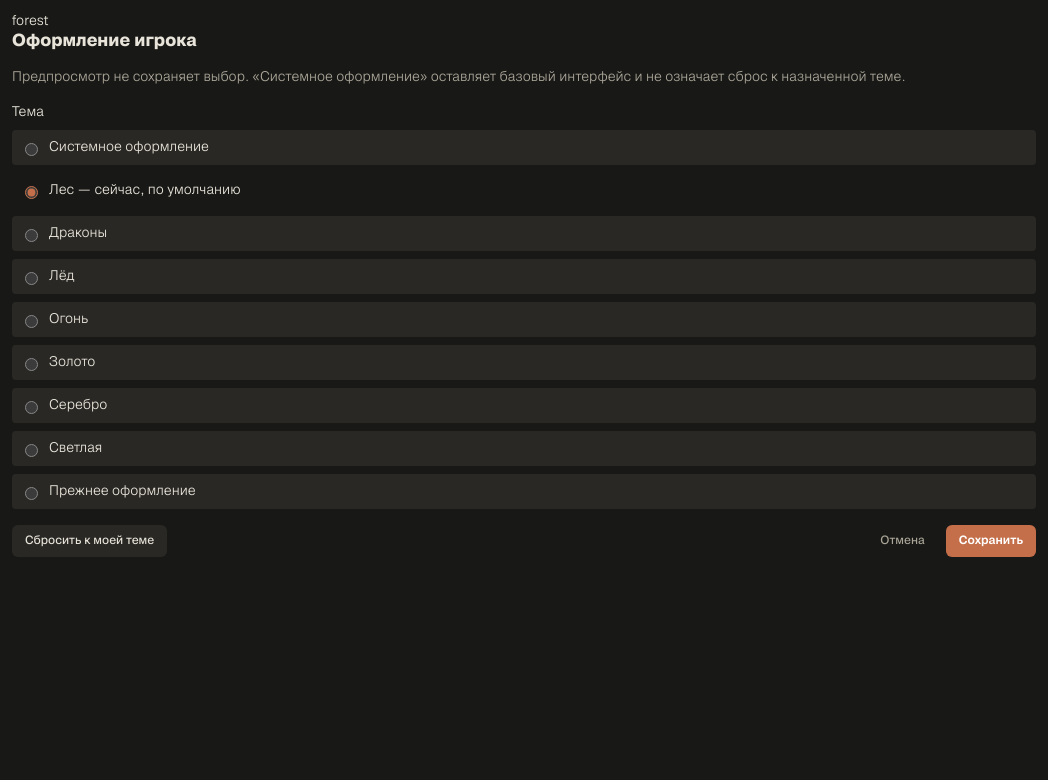
it: returns the draft to the controlled appearance after a successful reset with an unchanged null override
Click the radio button labelled "Драконы".
click(32, 235)  # box [25,228,38,242]
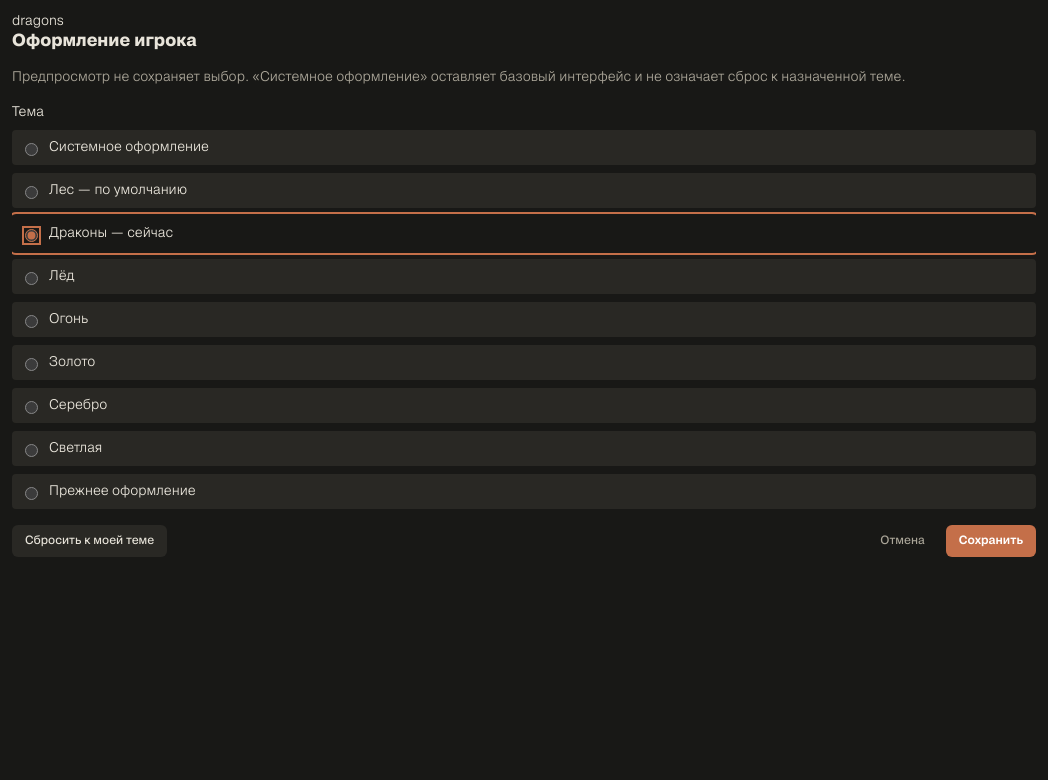
Expected: the radio button labelled "Драконы — сейчас" is checked, [25,228,38,242]
Expected: the text named "Применённая тема" reads "dragons", [12,15,64,28]
Click the button "Сбросить к моей теме".
click(90, 541)  # box [12,525,167,557]
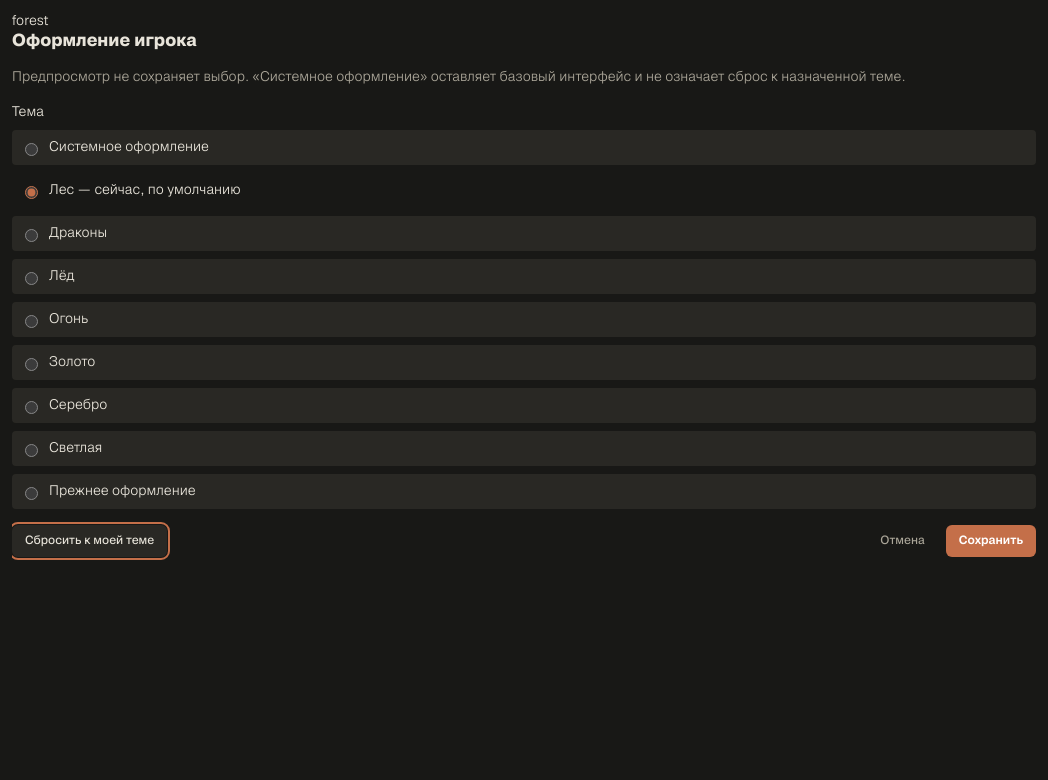
Expected: the text named "Применённая тема" reads "forest", [12,15,48,28]
Expected: the radio button labelled "Лес — сейчас, по умолчанию" is checked, [25,186,38,198]
